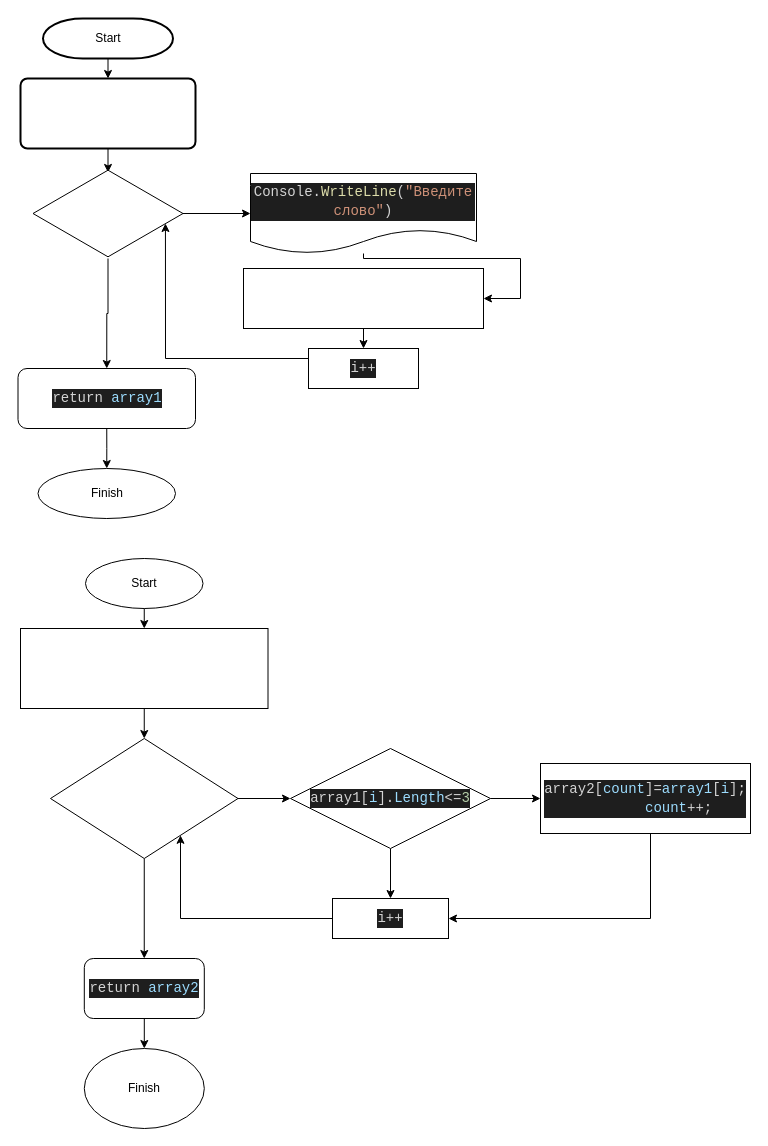
Some shapes in this 768 by 1146 pixel diagram are drawn without their labels. The shapes that lost their labels are listed below. From the top down, each one's centre as x and y in pixels, then its label:
At (x=107, y=113): "string [] array1 = new string [ size ] int i = 0".
At (x=107, y=213): "i < size".
At (x=363, y=298): "array1[ i ]= Console . ReadLine ()".
At (x=144, y=668): "string [] array2 = new string [ array1 . Length ]; int count = 0 ;".
At (x=144, y=798): "i < array1 . Length".
